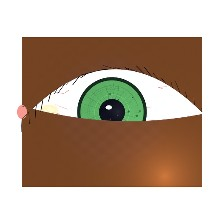pinguecula_lesion: (31, 96, 67, 125)
